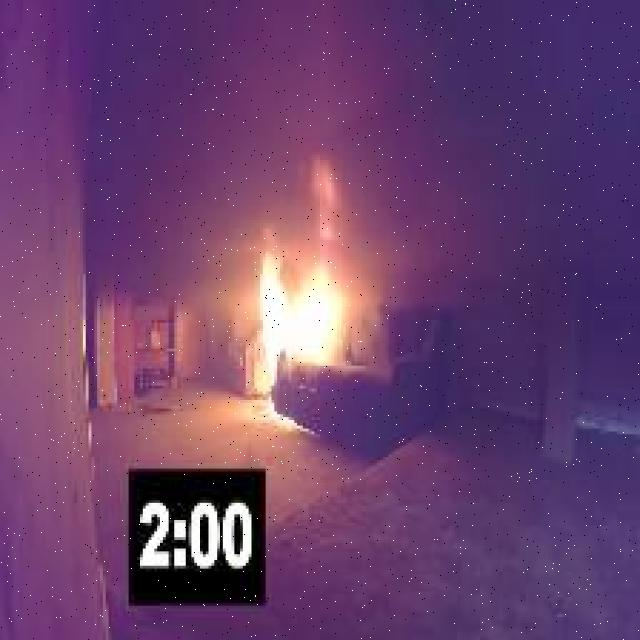fire: (254, 152, 364, 436)
